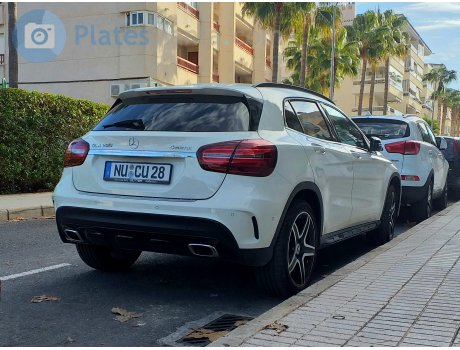License Plates: (111, 161, 167, 178)
